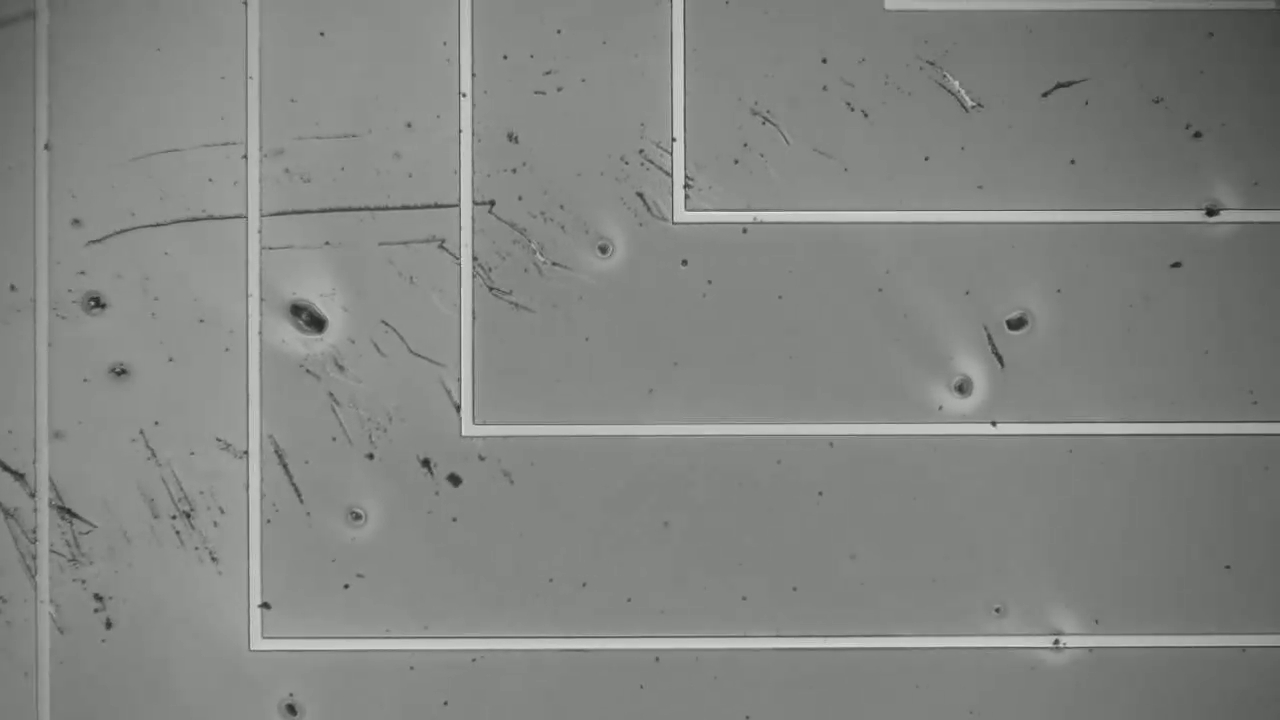scratch: (88, 193, 493, 239), (120, 431, 225, 560), (431, 230, 519, 307), (261, 428, 315, 514), (634, 135, 701, 197), (379, 315, 451, 371)
stains_enbedded: (1193, 185, 1231, 235), (239, 588, 277, 619)
